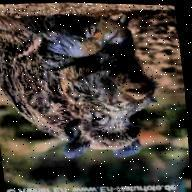boar: (0, 6, 188, 170)
